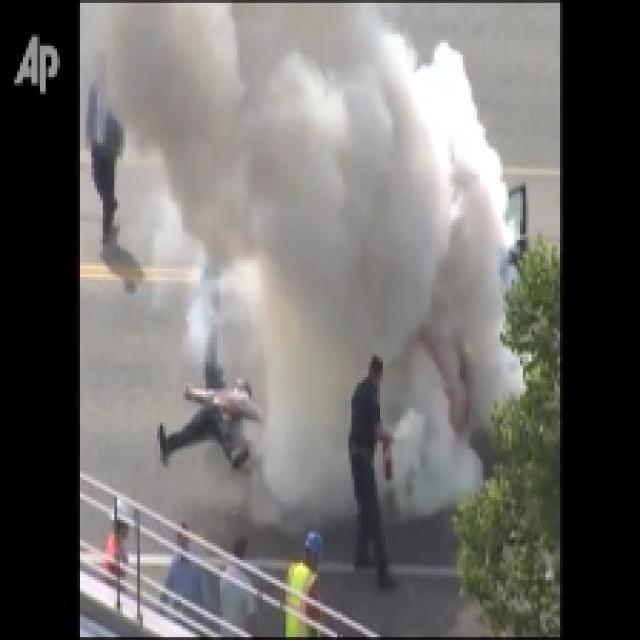Smoke: (271, 160, 460, 346)
